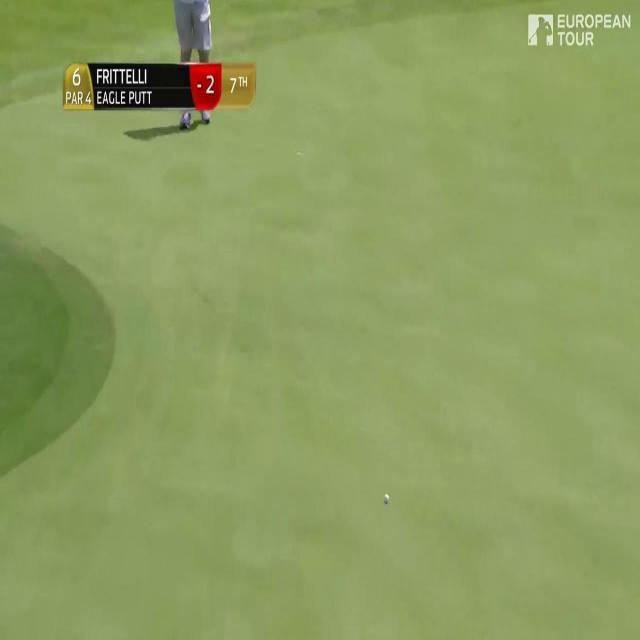GolfBall: (380, 487, 392, 509)
